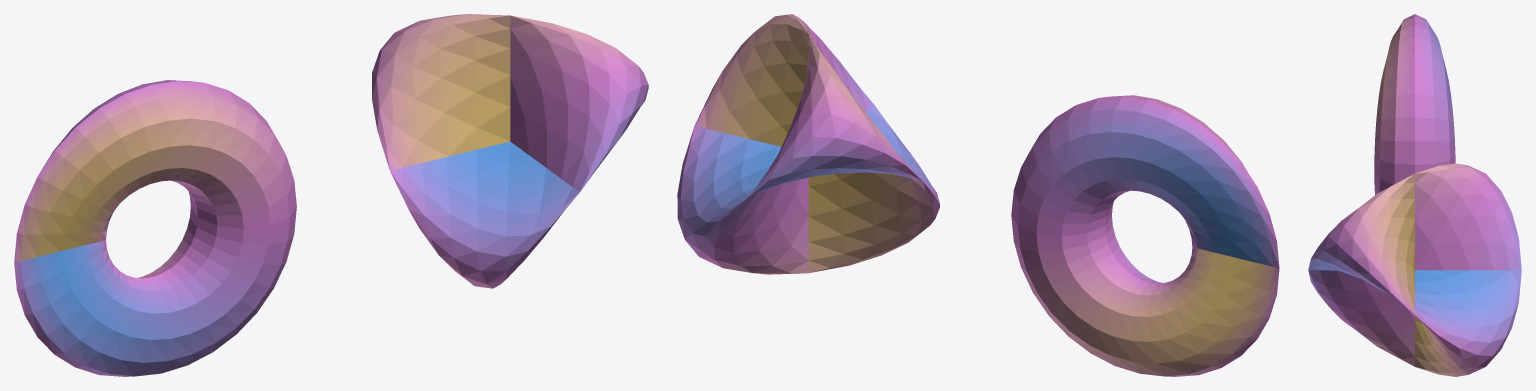
The model's file is example.gltf.
The picture shows the model from 3 angles, left to right: view 1: azimuth 30°, elevation 25°; view 2: azimuth 150°, elevation 25°; view 3: azimuth 270°, elevation 25°; orthographic projection. The views are drawn at different scales.
Parts seen in each view (by area): view 1: klein_bottle_shadow, roman_surface_shadow; view 2: klein_bottle_shadow, roman_surface_shadow; view 3: roman_surface_shadow, klein_bottle_shadow.
Boxes of the visible parts, box(x1,y1,x2,y2) form: klein_bottle_shadow: box(14, 80, 296, 376); roman_surface_shadow: box(372, 14, 648, 288); klein_bottle_shadow: box(1011, 95, 1279, 376); roman_surface_shadow: box(677, 14, 939, 274); roman_surface_shadow: box(1308, 163, 1521, 376); klein_bottle_shadow: box(1374, 14, 1455, 194).
Bounding box in the file's own units: 4.47 × 2 × 1.75.
